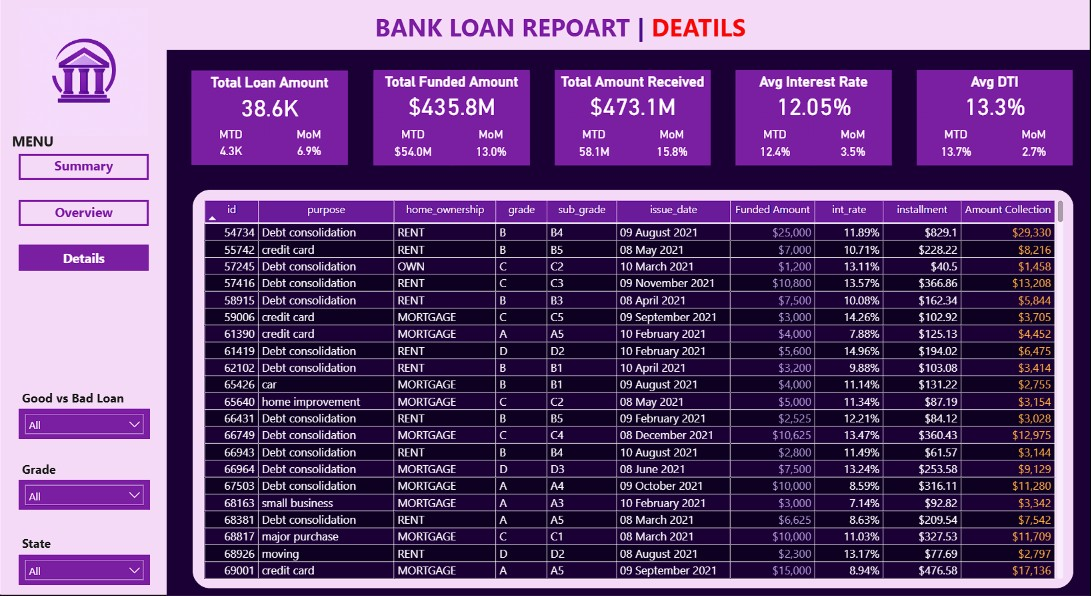

What the dashboard file says about the page in this screenshot:
{"tool":"powerbi","page":{"name":"Details","canvas":[1680,920],"ordinal":2},"visuals":[{"type":"shape","title":"Background","box":[258.6,80,1422.9,840],"z":0,"group":"g19"},{"type":"shape","box":[1134.8,111,240,147.7],"z":0,"group":"g12"},{"type":"shape","box":[1412.8,111,240,147.7],"z":0,"group":"g14"},{"type":"group","id":"g1","title":"Funded Amount","box":[577.8,111.2,240,147.7],"z":0,"group":"g17"},{"type":"shape","box":[577.8,111.2,240,147.7],"z":0,"group":"g1"},{"type":"card","title":"Total Funded Amount","fields":{"Values":["financial_loan_bank.Total Funded Amount"]},"box":[577.9,111.2,240,73.8],"z":0,"group":"g2"},{"type":"shape","box":[856.6,111.2,240,147.7],"z":0,"group":"g3"},{"type":"card","title":"Total Amount Received","fields":{"Values":["financial_loan_bank.Total Amount Received"]},"box":[856.6,111.2,239.9,74.1],"z":0,"group":"g4"},{"type":"card","title":"Avg Interest Rate","fields":{"Values":["financial_loan_bank.Avg Interest Rate"]},"box":[1135.2,111.4,240,74.1],"z":0,"group":"g5"},{"type":"card","title":"Avg DTI","fields":{"Values":["financial_loan_bank.Avg DTI"]},"box":[1412.8,111.7,240,73.8],"z":0,"group":"g6"},{"type":"shape","box":[297.8,112.5,240,146],"z":0,"group":"g10"},{"type":"card","title":"Total Loan Amount","fields":{"Values":["financial_loan_bank.Total Loan Applications"]},"box":[297.8,112.5,240,73.3],"z":0,"group":"g7"},{"type":"textbox","title":"Menu","box":[15,200,103,42],"z":0,"group":"g16"},{"type":"shape","title":"Background","box":[297,294.9,1355,613.1],"z":0,"group":"g9"},{"type":"actionButton","title":"Details Button","box":[30,380,200,40],"z":0,"group":"g8"},{"type":"slicer","fields":{"Values":["financial_loan_bank.Good vs Bad Loan"]},"box":[30,631.2,201.7,46.8],"z":0,"group":"g11"},{"type":"textbox","box":[30,712,70,34.1],"z":0,"group":"g13"},{"type":"textbox","box":[30,826.7,56.7,36.7],"z":0,"group":"g15"},{"type":"group","id":"g2","title":"Group 4","box":[577.8,111.2,240.1,148.2],"z":1000,"group":"g1"},{"type":"group","id":"g3","title":"Amount Received","box":[856.6,111.2,240,147.7],"z":1000,"group":"g17"},{"type":"group","id":"g4","title":"Group 7","box":[856.6,111.2,240,147.7],"z":1000,"group":"g3"},{"type":"group","id":"g5","title":"Group 7","box":[1135.2,111.4,240,147.7],"z":1000,"group":"g12"},{"type":"group","id":"g6","title":"Group 3","box":[1412.8,111.7,240,147.7],"z":1000,"group":"g14"},{"type":"group","id":"g7","title":"Group 1","box":[297.8,112.5,240,146],"z":1000,"group":"g10"},{"type":"card","title":"MTD","fields":{"Values":["financial_loan_bank.MTD Amount Received"]},"box":[856.8,184.8,120.2,74.1],"z":1000,"group":"g4"},{"type":"card","title":"MTD","fields":{"Values":["financial_loan_bank.MTD Avg Interest Rate"]},"box":[1135.4,185,120.2,74.1],"z":1000,"group":"g5"},{"type":"card","title":"MTD","fields":{"Values":["financial_loan_bank.MTD Funded Amount"]},"box":[577.8,185.3,120.3,74.1],"z":1000,"group":"g2"},{"type":"card","title":"MTD","fields":{"Values":["financial_loan_bank.MTD Avg DTI"]},"box":[1413,185.3,120,74.1],"z":1000,"group":"g6"},{"type":"card","title":"MTD","fields":{"Values":["financial_loan_bank.MTD Loan Applications"]},"box":[297.8,185.8,120,72.6],"z":1000,"group":"g7"},{"type":"group","id":"g8","title":"Buttons","box":[30,240,200,180],"z":1000,"group":"g16"},{"type":"group","id":"g9","title":"Table","box":[297,294.9,1355,613.1],"z":1000,"group":"g18"},{"type":"tableEx","fields":{"Values":["financial_loan_bank.id","financial_loan_bank.purpose","financial_loan_bank.home_ownership","financial_loan_bank.grade","financial_loan_bank.sub_grade","financial_loan_bank.issue_date","Sum(financial_loan_bank.loan_amount)","financial_loan_bank.int_rate","financial_loan_bank.installment","financial_loan_bank.total_payment"]},"box":[309,306.3,1332,593],"z":1000,"group":"g9"},{"type":"actionButton","title":"Overview Button","box":[30,310,200,40],"z":1000,"group":"g8"},{"type":"textbox","box":[30,601,168.3,34.5],"z":1000,"group":"g11"},{"type":"slicer","fields":{"Values":["financial_loan_bank.grade"]},"box":[30,742,201.7,46],"z":1000,"group":"g13"},{"type":"slicer","fields":{"Values":["financial_loan_bank.address_state"]},"box":[30,857.5,201.7,46.7],"z":1000,"group":"g15"},{"type":"group","id":"g10","title":"Loan Amount","box":[297.8,112.5,240,147.7],"z":2000,"group":"g17"},{"type":"card","title":"MoM","fields":{"Values":["financial_loan_bank.MoM Amount Received"]},"box":[976.4,184.8,120.2,74.1],"z":2000,"group":"g4"},{"type":"card","title":"MoM","fields":{"Values":["financial_loan_bank.MoM Avg Interest Rate"]},"box":[1255,185,120.2,74.1],"z":2000,"group":"g5"},{"type":"card","title":"MoM","fields":{"Values":["financial_loan_bank.MoM Funded Amount"]},"box":[697.5,185.3,120.3,74.1],"z":2000,"group":"g2"},{"type":"card","title":"MoM","fields":{"Values":["financial_loan_bank.MoM Avg DTI"]},"box":[1532.5,185.3,120,74.1],"z":2000,"group":"g6"},{"type":"card","title":"MoM","fields":{"Values":["financial_loan_bank.MoM Loan Applications"]},"box":[417.8,185.8,120,72.6],"z":2000,"group":"g7"},{"type":"actionButton","title":"Summary Button","box":[30,240,200,40],"z":2000,"group":"g8"},{"type":"group","id":"g11","title":"Good vs Bad Loan","box":[30,601,201.7,77],"z":2000,"group":"g20"},{"type":"group","id":"g12","title":"Avg Interest","box":[1134.8,111,240,147.7],"z":3000,"group":"g17"},{"type":"group","id":"g13","title":"Grade","box":[30,712,201.7,76],"z":3000,"group":"g20"},{"type":"group","id":"g14","title":"Avg DTI","box":[1412.8,111,240,149.3],"z":4000,"group":"g17"},{"type":"group","id":"g15","title":"State","box":[30,826.7,201.7,77.5],"z":4000,"group":"g20"},{"type":"textbox","title":"Title of Page","box":[573,13.6,594.9,66.1],"z":5000,"group":"g20"},{"type":"image","title":"Logo","box":[32.5,0,197.1,227.6],"z":6000,"group":"g20"},{"type":"group","id":"g16","title":"Buttons and title of button","box":[15,200,215,220],"z":7000,"group":"g20"},{"type":"group","id":"g17","title":"5 KPI","box":[297.8,111,1355,151],"z":8000,"group":"g18"},{"type":"group","id":"g18","title":"KPI and Table","box":[297,111,1355.8,797],"z":8001,"group":"g19"},{"type":"group","id":"g19","title":"Background for KPI and Table","box":[258.6,80,1422.9,840],"z":8002,"group":"g20"},{"type":"group","id":"g20","title":"Details Page","box":[15,0,1666.4,920],"z":8003}]}

Visuals, with their boxes in screenshot pixels (x1, y1, x2, y2), scaled from the page's 1680x920 canvas onto the 1091x596 screenshot:
"Background" shape: 168/52/1090/595
shape: 737/72/893/168
shape: 917/72/1073/168
"Funded Amount" group: 375/72/531/168
shape: 375/72/531/168
"Total Funded Amount" card: 375/72/531/120
shape: 556/72/712/168
"Total Amount Received" card: 556/72/712/120
"Avg Interest Rate" card: 737/72/893/120
"Avg DTI" card: 917/72/1073/120
shape: 193/73/349/167
"Total Loan Amount" card: 193/73/349/120
"Menu" textbox: 10/130/77/157
"Background" shape: 193/191/1073/588
"Details Button" actionButton: 19/246/149/272
slicer - financial_loan_bank.Good vs Bad Loan: 19/409/150/439
textbox: 19/461/65/483
textbox: 19/536/56/559
"Group 4" group: 375/72/531/168
"Amount Received" group: 556/72/712/168
"Group 7" group: 556/72/712/168
"Group 7" group: 737/72/893/168
"Group 3" group: 917/72/1073/168
"Group 1" group: 193/73/349/167
"MTD" card: 556/120/634/168
"MTD" card: 737/120/815/168
"MTD" card: 375/120/453/168
"MTD" card: 918/120/996/168
"MTD" card: 193/120/271/167
"Buttons" group: 19/155/149/272
"Table" group: 193/191/1073/588
tableEx - financial_loan_bank.id x financial_loan_bank.purpose: 201/198/1066/583
"Overview Button" actionButton: 19/201/149/227
textbox: 19/389/129/412
slicer - financial_loan_bank.grade: 19/481/150/510
slicer - financial_loan_bank.address_state: 19/556/150/586
"Loan Amount" group: 193/73/349/169
"MoM" card: 634/120/712/168
"MoM" card: 815/120/893/168
"MoM" card: 453/120/531/168
"MoM" card: 995/120/1073/168
"MoM" card: 271/120/349/167
"Summary Button" actionButton: 19/155/149/181
"Good vs Bad Loan" group: 19/389/150/439
"Avg Interest" group: 737/72/893/168
"Grade" group: 19/461/150/510
"Avg DTI" group: 917/72/1073/169
"State" group: 19/536/150/586
"Title of Page" textbox: 372/9/758/52
"Logo" image: 21/0/149/147
"Buttons and title of button" group: 10/130/149/272
"5 KPI" group: 193/72/1073/170
"KPI and Table" group: 193/72/1073/588
"Background for KPI and Table" group: 168/52/1090/595
"Details Page" group: 10/0/1090/595
